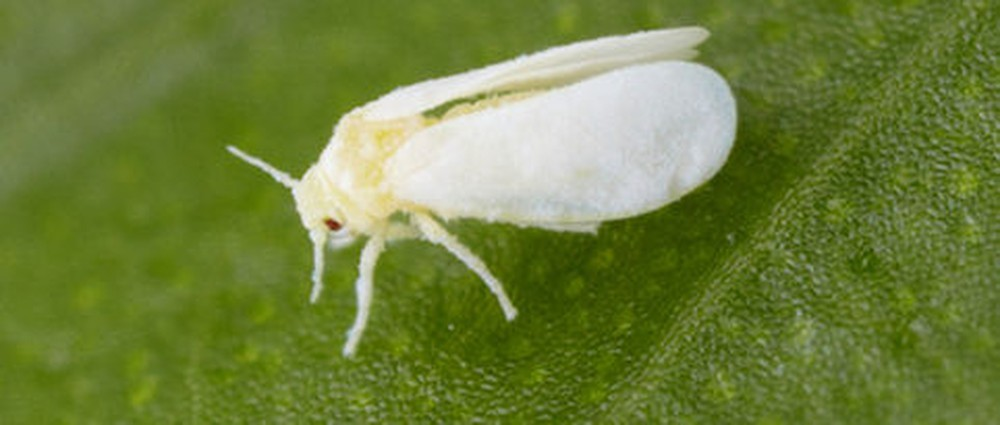Mosca Blanca: (229, 25, 754, 350)
